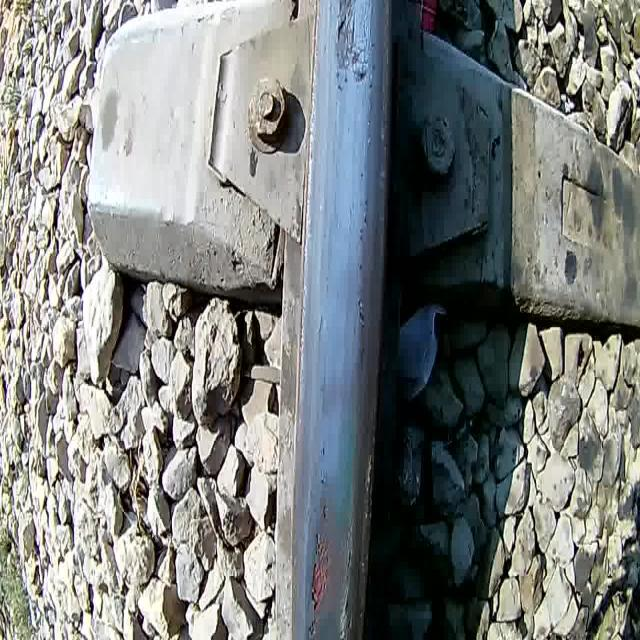Cracks: (339, 534, 355, 640), (332, 8, 361, 58)
Spallings: (305, 493, 334, 640)
Squats: (324, 0, 381, 102)
